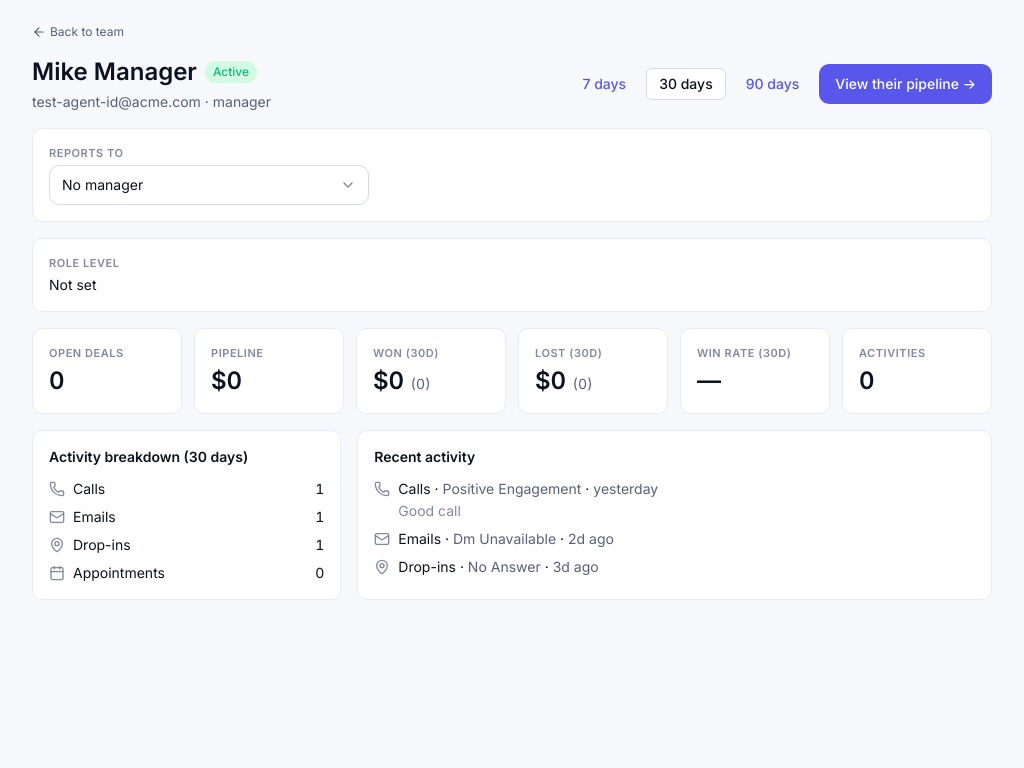
Test case: AgentDetailPage / reports-to control › excludes the viewed member from their OWN manager options (no self-report)
Click the dropdown named "Reports to".
click(103, 184)  # box x1=49 y1=165 x2=369 y2=205
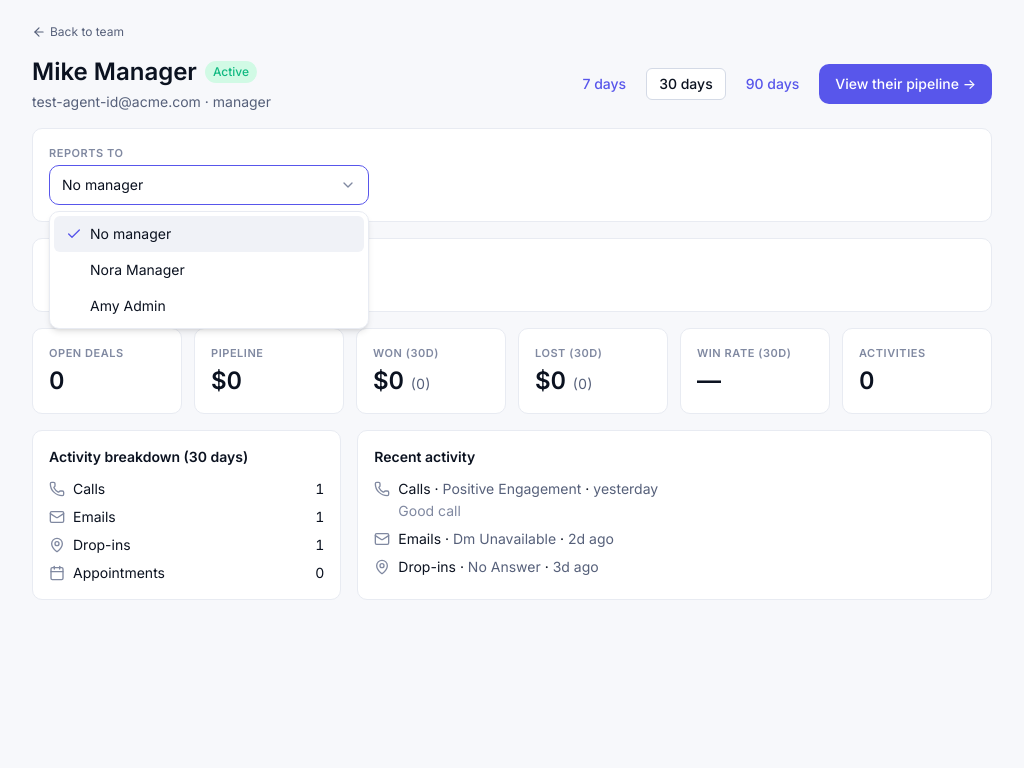
Expected: the option "Nora Manager" is shown, x1=90 y1=261 x2=185 y2=278
